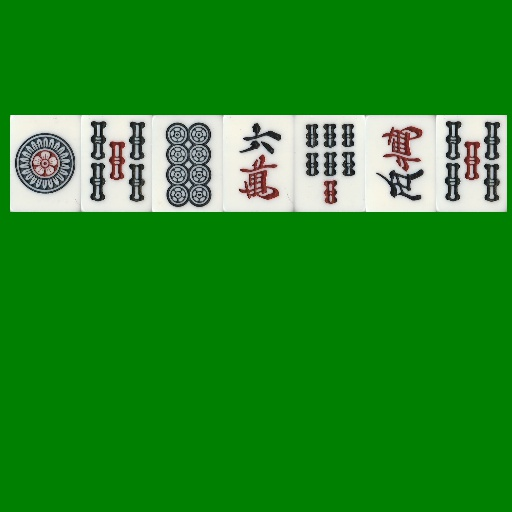1p: (10, 115, 81, 212)
5m: (365, 115, 436, 212)
5s: (81, 115, 152, 212), (436, 115, 507, 212)
6m: (223, 115, 294, 212)
7s: (294, 115, 365, 212)
8p: (152, 115, 223, 212)
